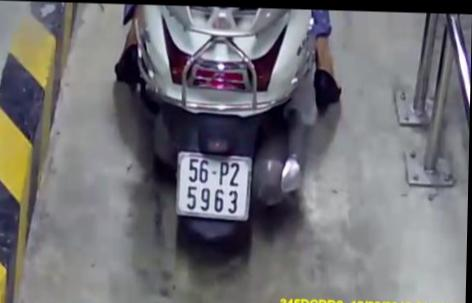LP: (176, 148, 252, 220)
